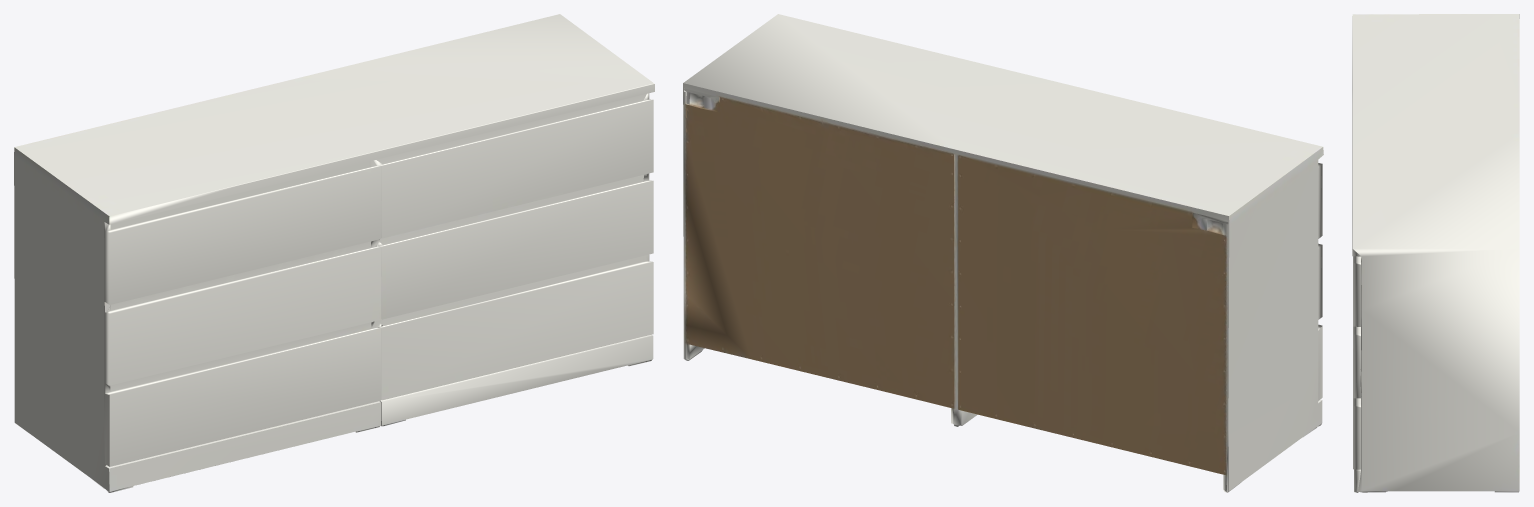
File: malm-comoda-6-cajones-blanco.glb
3 renders of one model, left to right at view 1: azimuth 30°, elevation 25°; view 2: azimuth 150°, elevation 25°; view 3: azimuth 270°, elevation 25°, orthographic. The views are drawn at different scales.
Visible parts, largest first — view 1: ProcessedMeshNode; view 2: ProcessedMeshNode; view 3: ProcessedMeshNode.
Part boxes in pixels (x1,y1,x2,y2): ProcessedMeshNode: (14,14,654,492); ProcessedMeshNode: (683,14,1323,492); ProcessedMeshNode: (1352,14,1519,492).
Size of the model in its own units: 1.6 by 0.7801 by 0.4832.
Materials: 1 (1 with a texture image).
